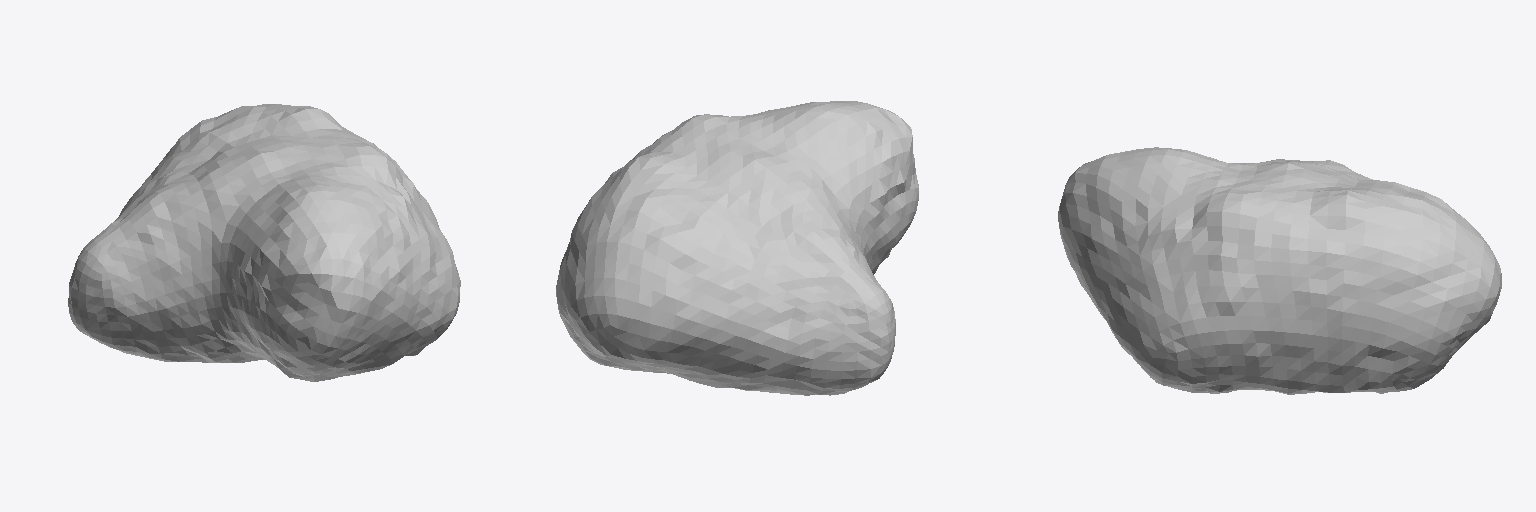
Rendered from rock_model.OBJ.
3 renders of one model, left to right at view 1: azimuth 30°, elevation 25°; view 2: azimuth 150°, elevation 25°; view 3: azimuth 270°, elevation 25°, orthographic.
Parts seen in each view (by area): view 1: Stone; view 2: Stone; view 3: Stone.
Boxes of the visible parts, x1,y1,x2,y2 form: Stone: [68, 104, 460, 381]; Stone: [556, 101, 918, 395]; Stone: [1058, 147, 1501, 394].
Size of the model in its own units: 486 by 320 by 611.